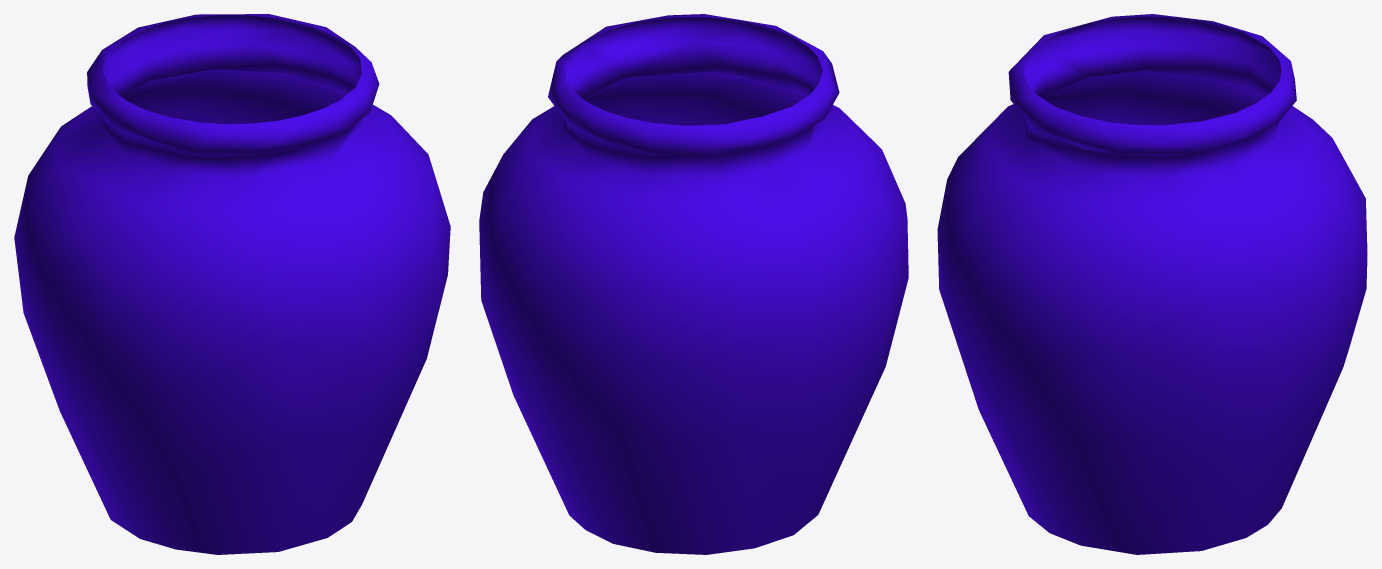
The model's file is vase.fbx.
The picture shows the model from 3 angles, left to right: view 1: azimuth 30°, elevation 25°; view 2: azimuth 150°, elevation 25°; view 3: azimuth 270°, elevation 25°; orthographic projection.
Parts seen in each view (by area): view 1: vase0.001; view 2: vase0.001; view 3: vase0.001.
Part boxes in pixels (bbox=[...]): vase0.001: bbox=[14, 14, 450, 554]; vase0.001: bbox=[479, 14, 908, 554]; vase0.001: bbox=[937, 14, 1367, 554].
Size of the model in its own units: 221 by 244 by 221.
